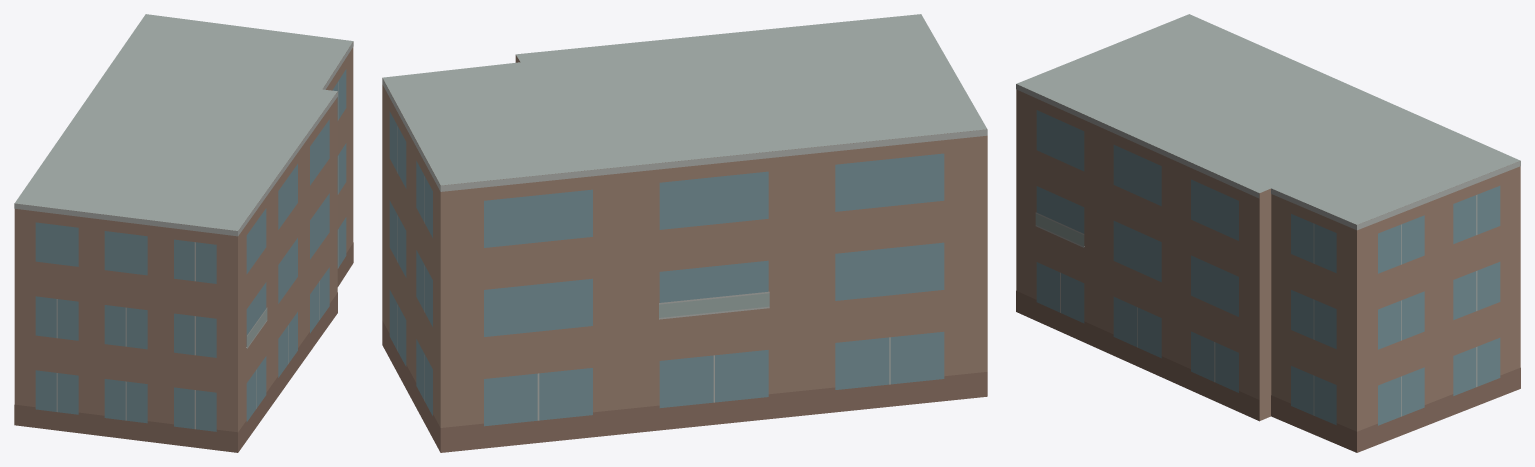
File: survey-upis-32512942.glb
3 renders of one model, left to right at view 1: azimuth 30°, elevation 25°; view 2: azimuth 150°, elevation 25°; view 3: azimuth 270°, elevation 25°, orthographic. The views are drawn at different scales.
Parts seen in each view (by area): view 1: survey-upis-32512942.tmp; view 2: survey-upis-32512942.tmp; view 3: survey-upis-32512942.tmp.
Part boxes in pixels (<box>): survey-upis-32512942.tmp: <box>14,14,353,452</box>; survey-upis-32512942.tmp: <box>382,14,987,452</box>; survey-upis-32512942.tmp: <box>1016,14,1520,452</box>.
Size of the model in its own units: 20.24 by 10.2 by 20.47.
